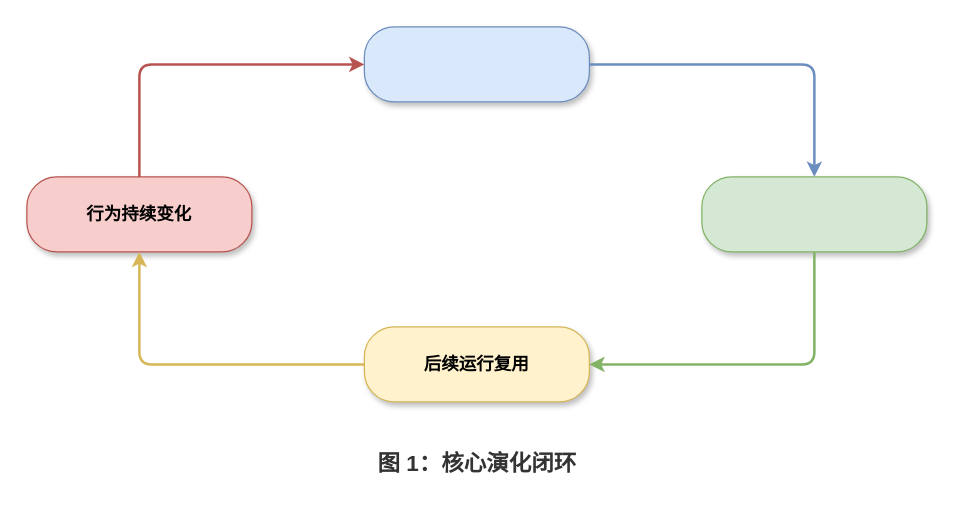
Image size: 956x511. Some labels were removed from this diagram. The shapes that lost their labels are listed below. From the top down, each one's centre as x and y in pixels, then its label:
the point at 477,66: 外部状态沉淀
the point at 815,216: Prompt / Tool 注入
